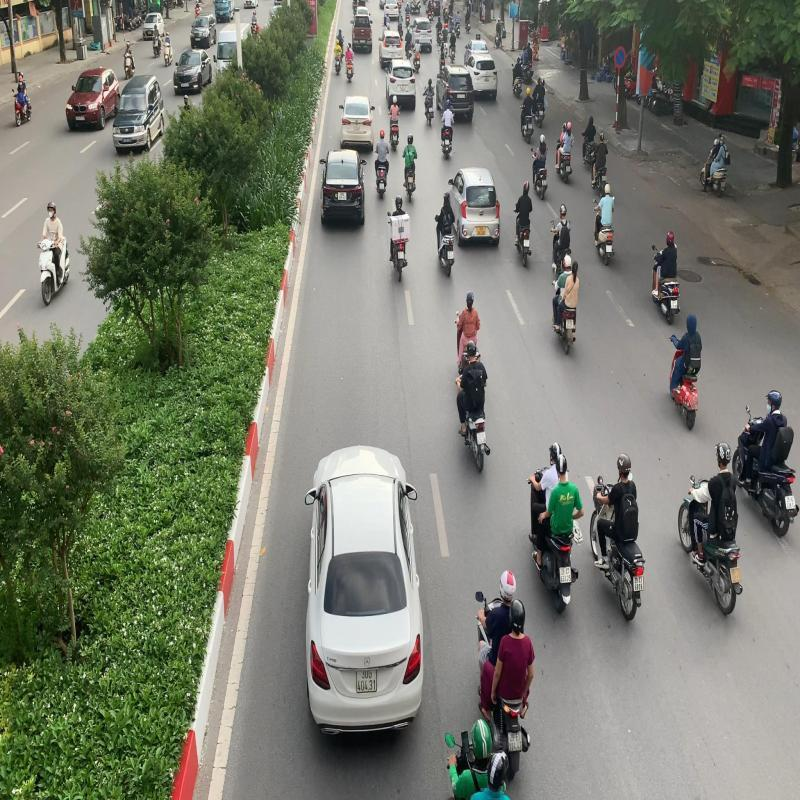helmet: (469, 716, 492, 758), (487, 750, 509, 790), (508, 596, 526, 635), (499, 570, 517, 601), (617, 453, 631, 476), (556, 454, 568, 474), (548, 441, 560, 460)
licenseplate: (507, 731, 524, 754), (558, 566, 572, 584), (632, 574, 644, 590)
motorcyclist: (472, 566, 536, 784), (525, 438, 585, 615), (589, 451, 647, 622)
